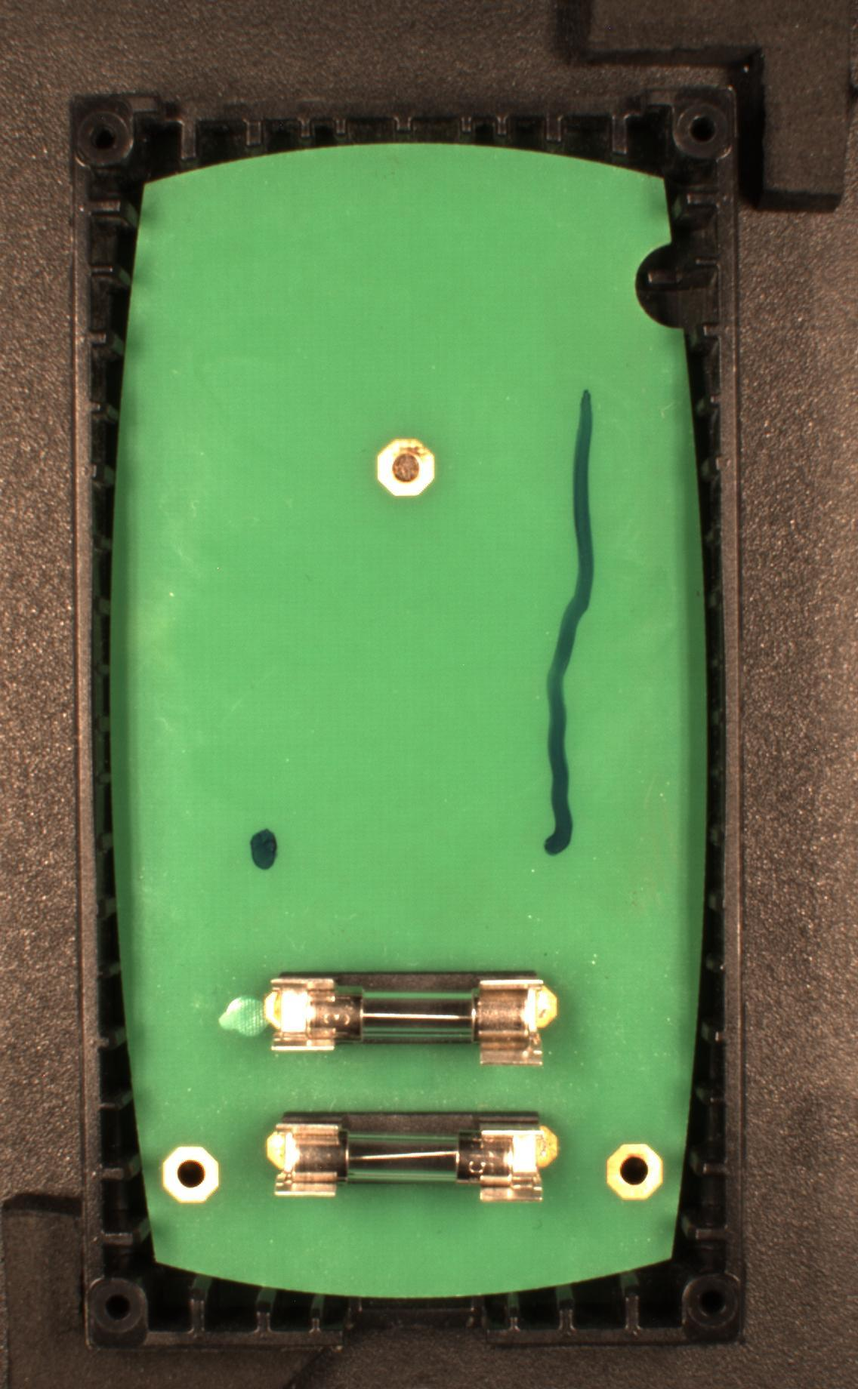Linijsko Ostecene: (541, 390, 596, 857)
Tockasto Ostecenje: (249, 826, 278, 875)
